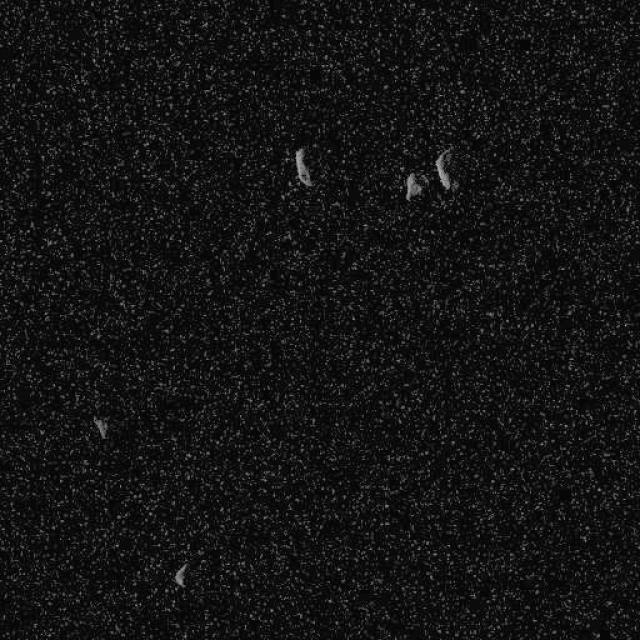D2: (434, 146, 455, 192), (292, 145, 312, 187), (404, 171, 425, 201), (91, 415, 109, 439), (172, 562, 188, 588)
